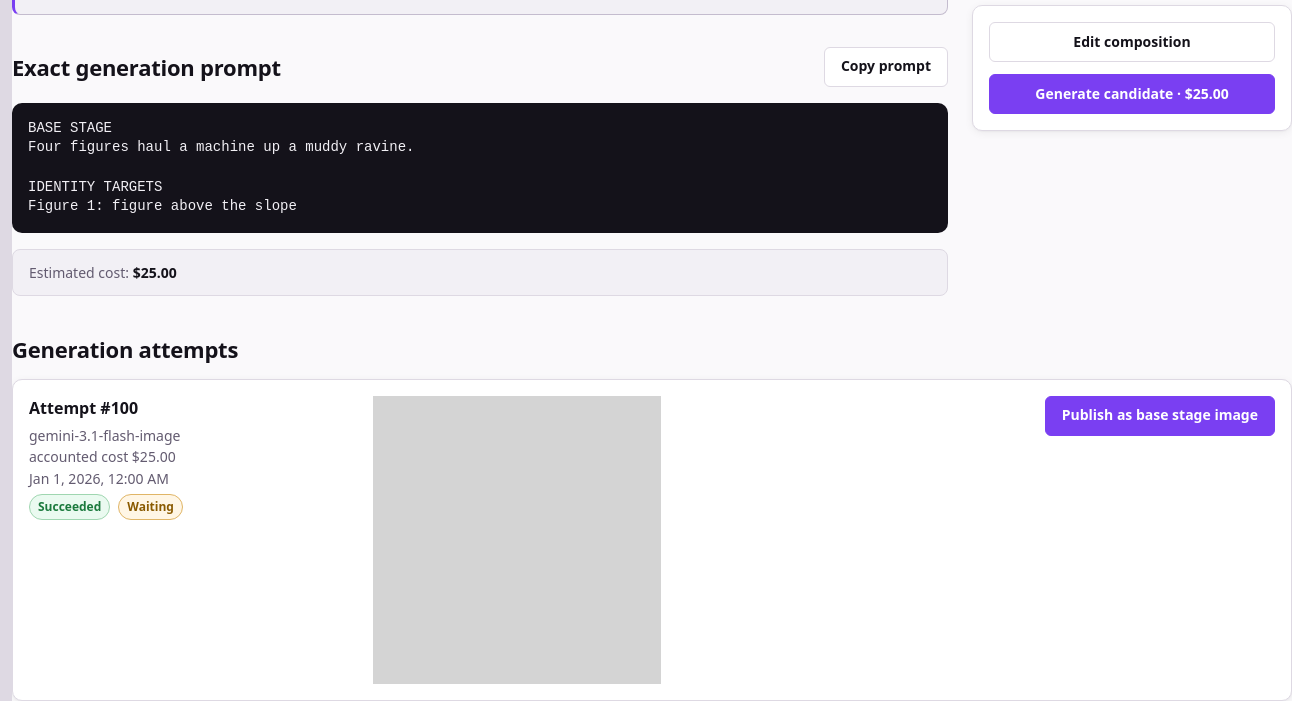
Test: BaseStagePreviewPage › shows the identity-neutral prompt, targets, and publish action for a generated candidate
The width and height of the screenshot is (1292, 701).
(page scrolled)
Check: the text "Four figures haul a machine up a muddy ravine" is shown, box [28,120,414,214]
Click the button "Publish as base stage image" at [1160, 416], box [1045,396,1275,436]
(page scrolled)
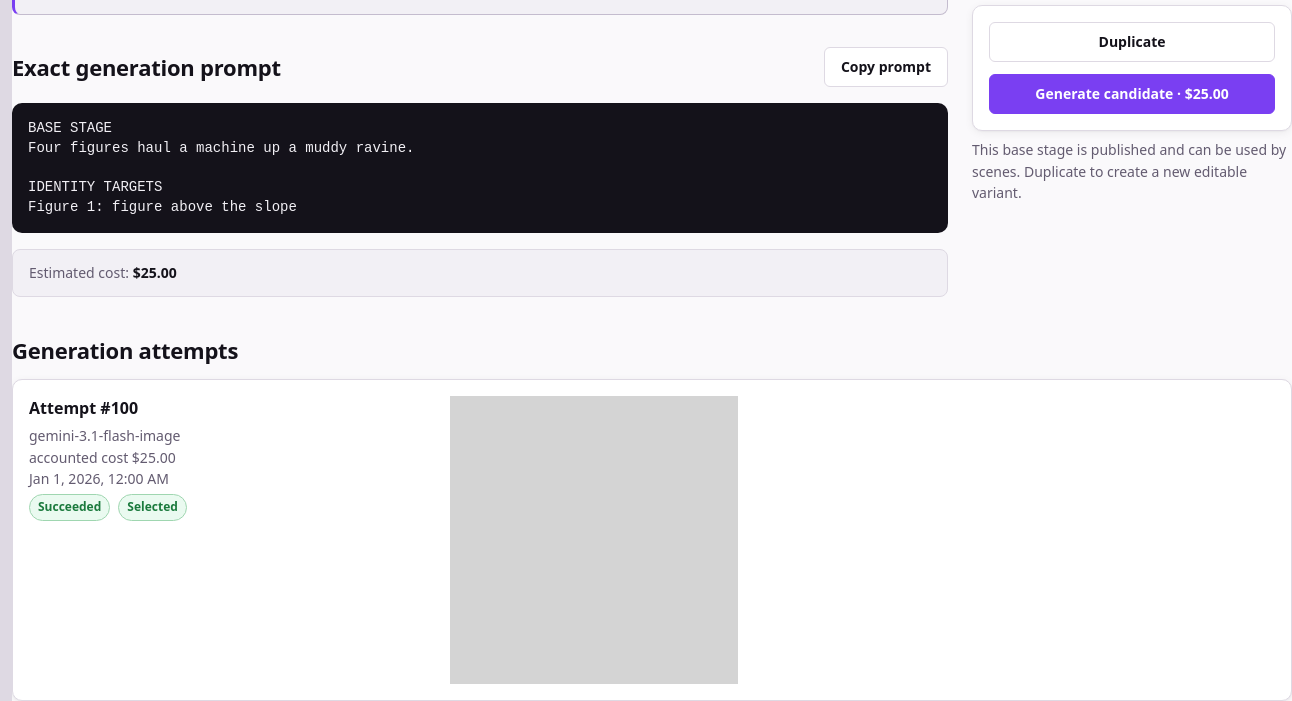
Check: the button "Publish as base stage image" is gone
Check: the button "Duplicate" is shown, box [989,22,1275,62]
